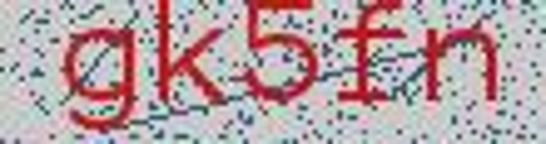5: (236, 1, 326, 118)
f: (331, 2, 409, 116)
g: (58, 23, 141, 139)
k: (148, 2, 230, 116)
n: (419, 19, 501, 112)
